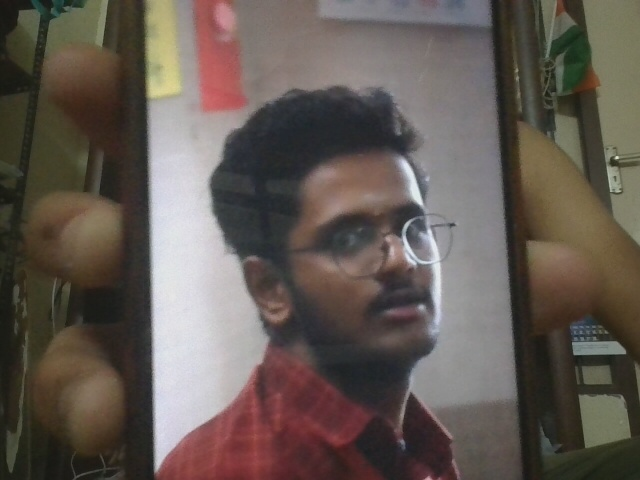fake: (276, 140, 505, 369)
